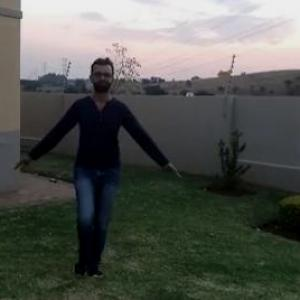land: (39, 68, 155, 269)
